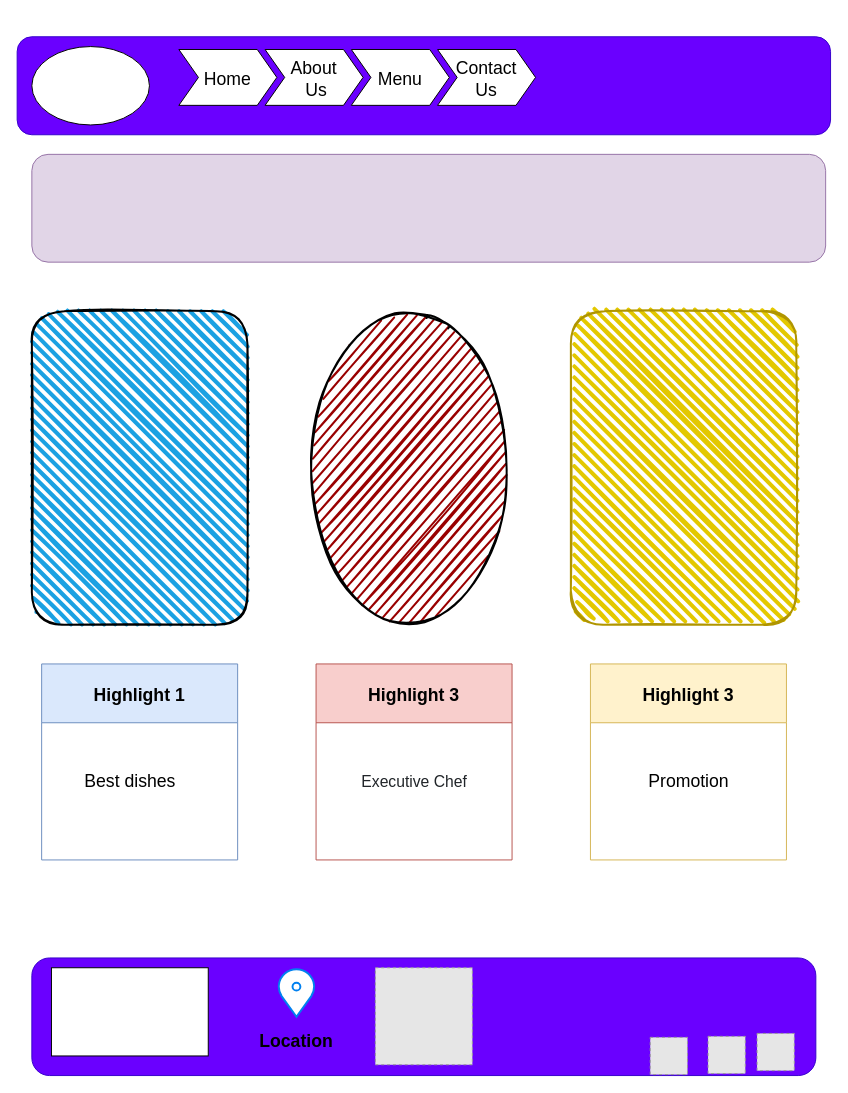
Some shapes in this 848 by 1093 pixel diagram are drawn without their labels. Grey dashed boxes stand in for pictures. The shapes that lost their labels are listed below. From the top down, each one's centre as x and y in pixels, then its label:
At [90,85]: "Logo".
At [428,207]: "Name of Restaurant Introduction Restaurant".
At [129,1011]: "Links Home About Us Menu Contact Us".
